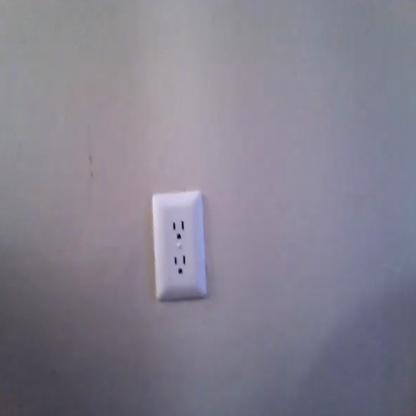OUTLET: (150, 192, 208, 300)
